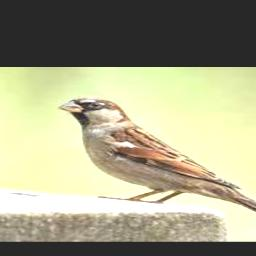Sparrow: (58, 98, 256, 228)
